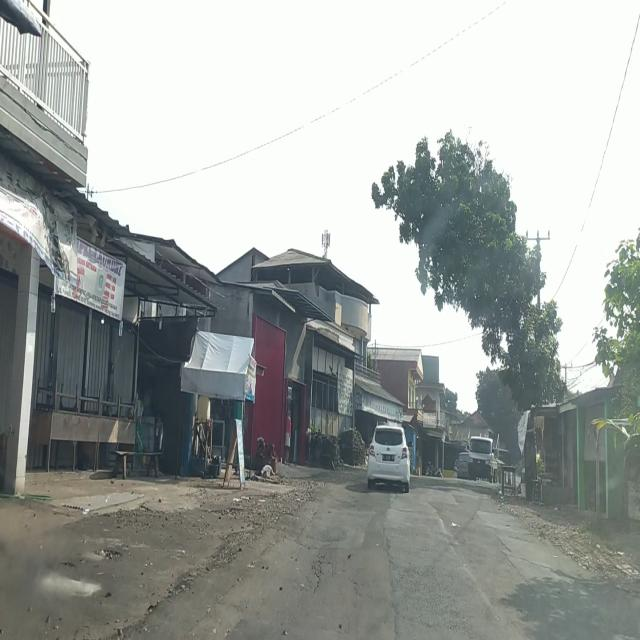Drain Hole: (311, 546, 338, 589)
